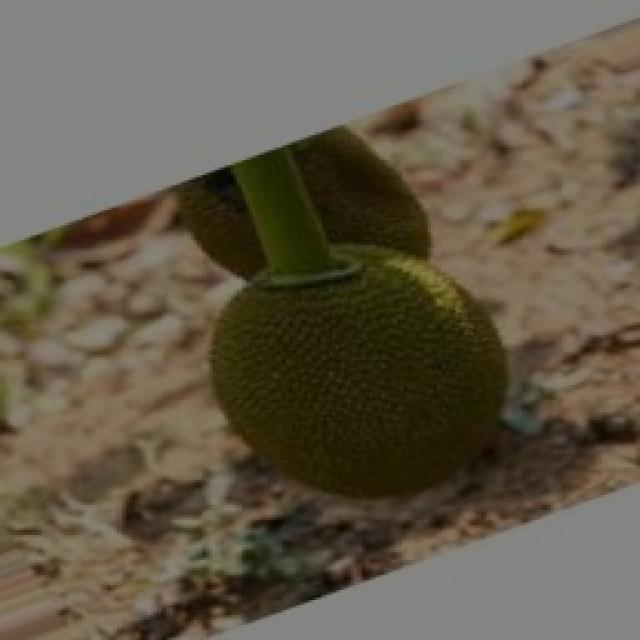Fruit: (182, 230, 536, 532)
